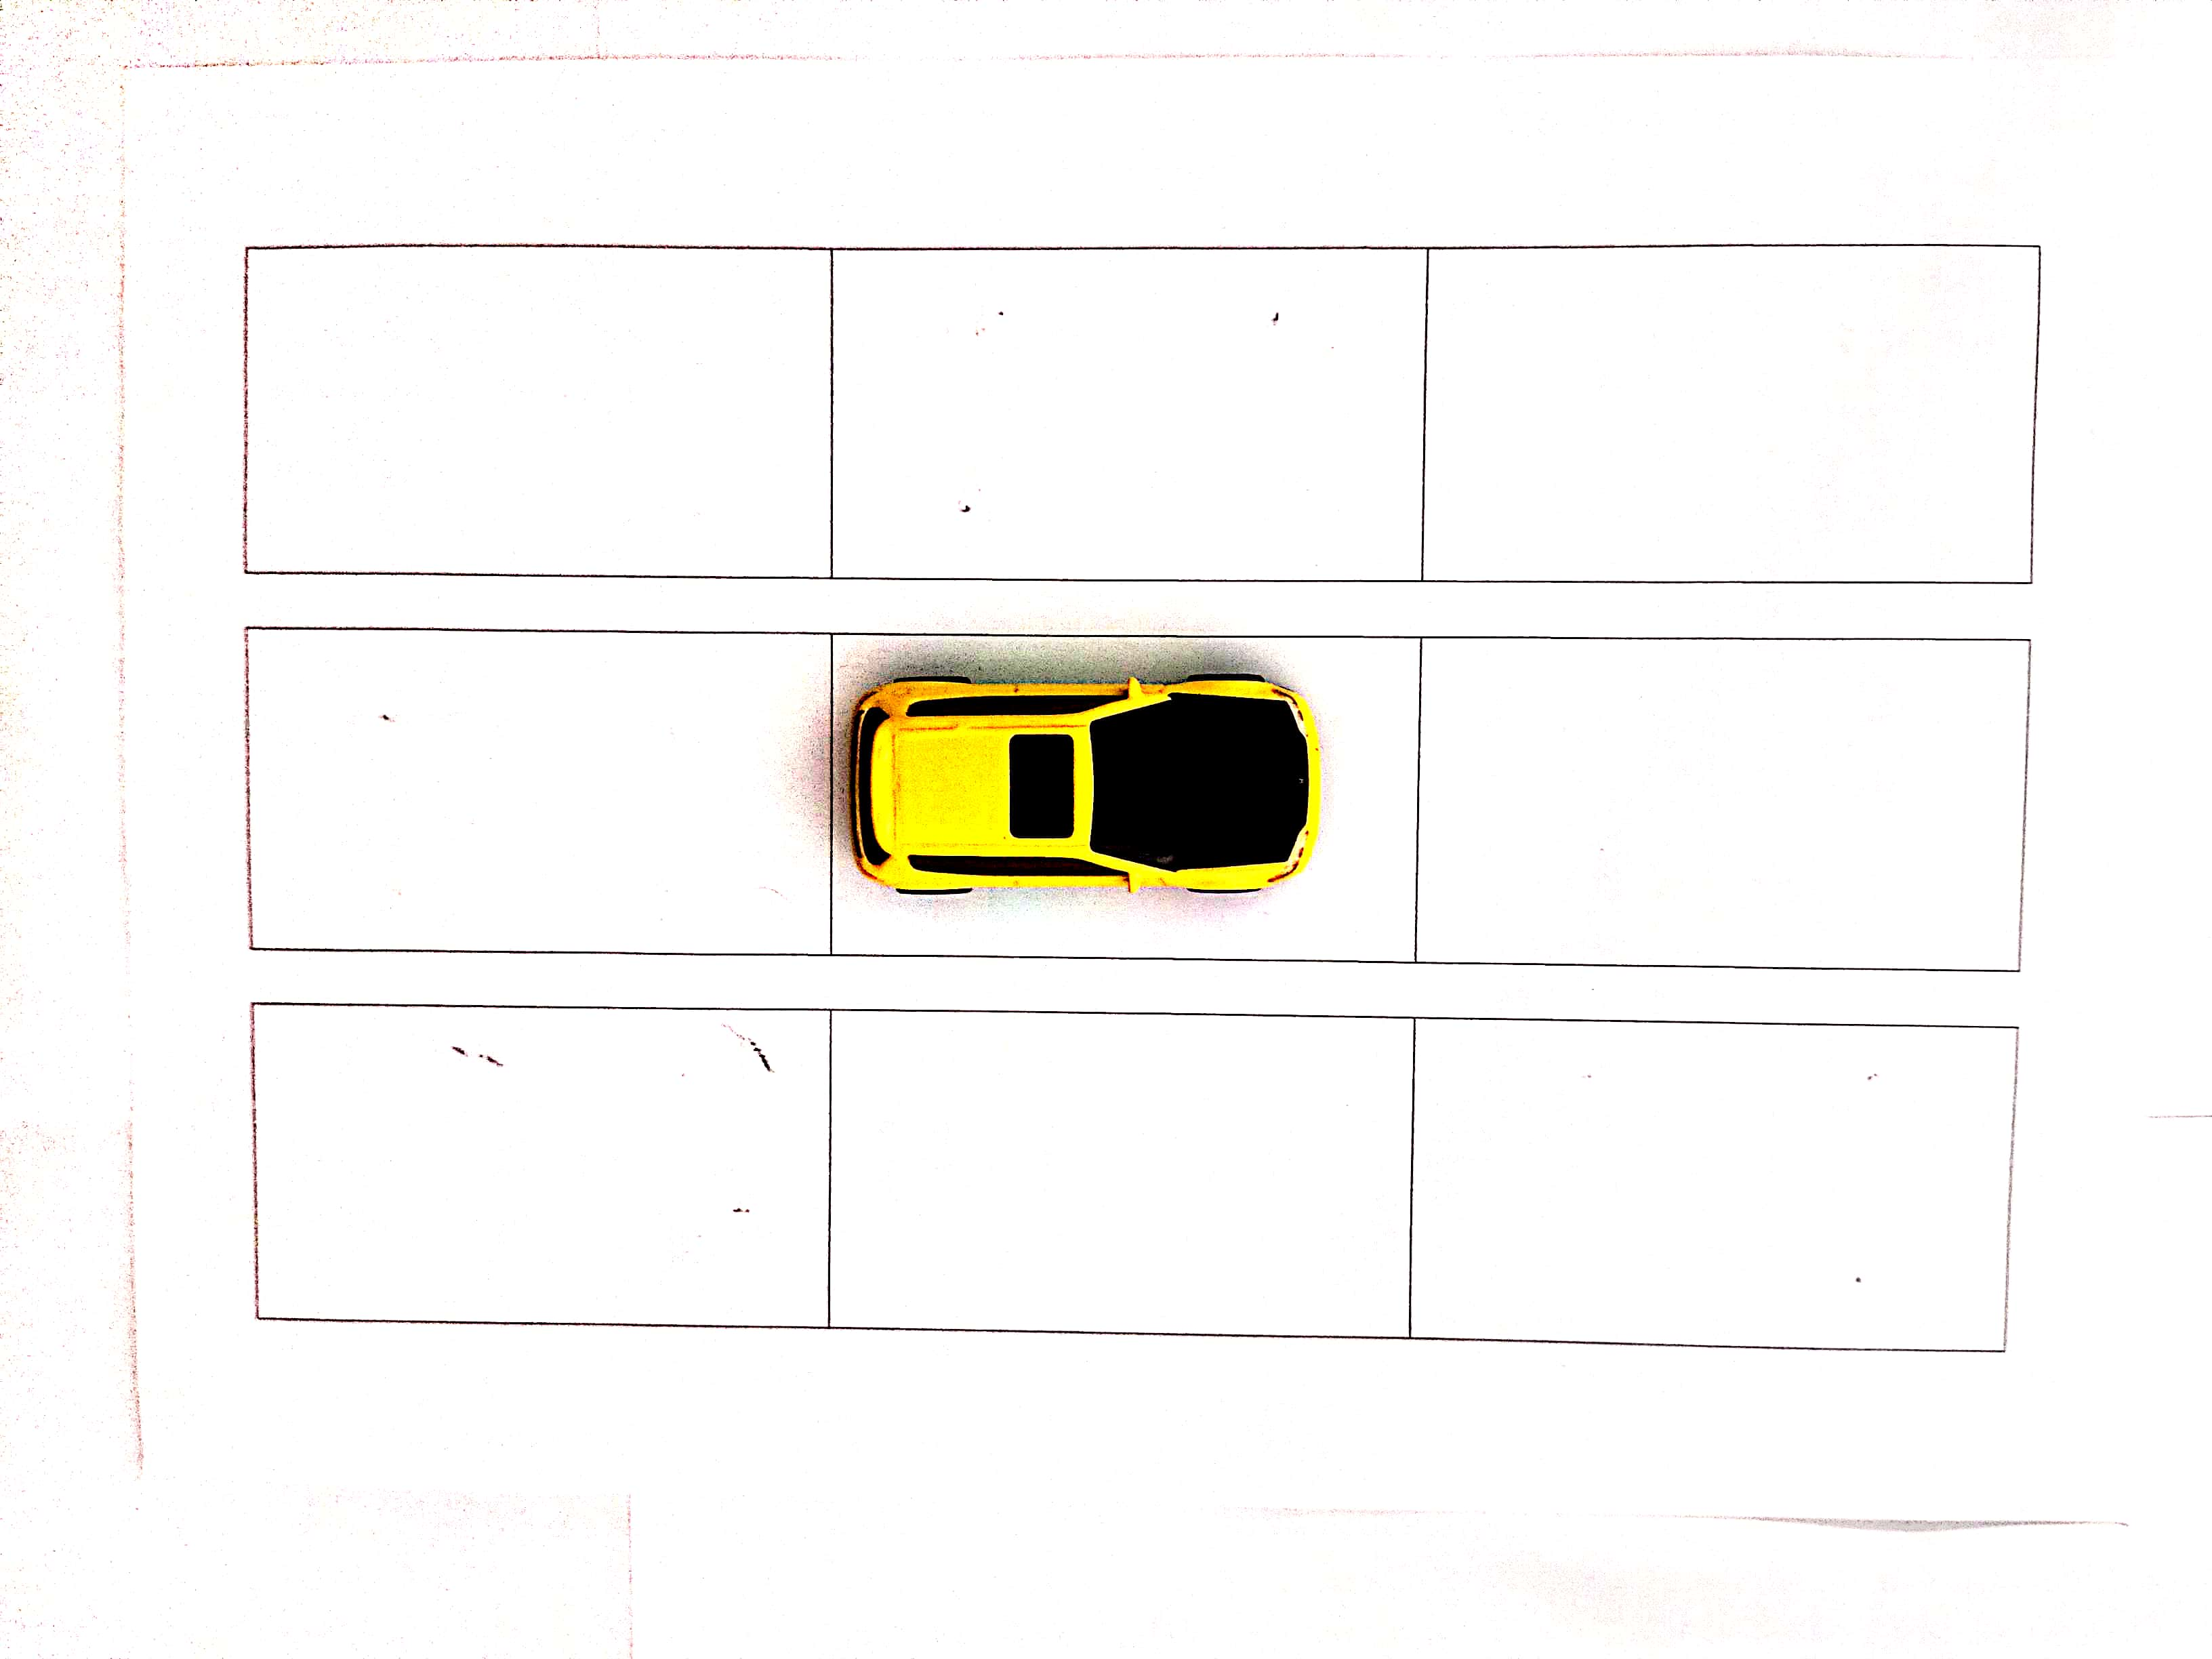Busy: (827, 638, 1414, 957)
Free: (1421, 638, 2031, 971), (242, 629, 829, 955), (833, 249, 1421, 572), (242, 249, 829, 572), (249, 997, 833, 1317), (829, 1014, 1414, 1331), (1418, 1028, 2008, 1337)
free: (1421, 240, 2036, 577)
